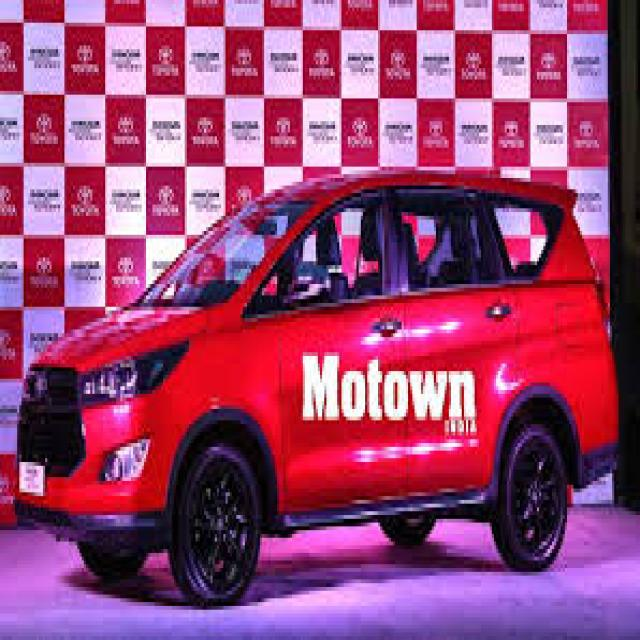light_vehicle: (14, 169, 618, 610)
